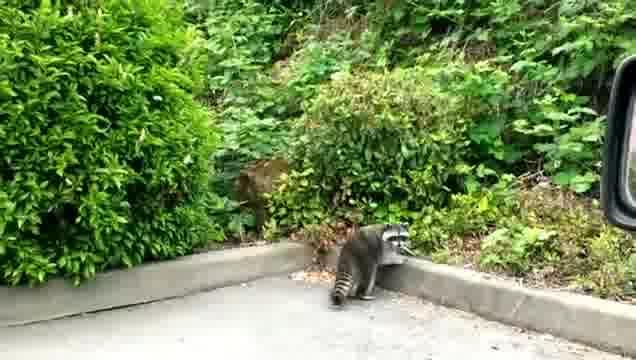raccoon: (332, 222, 410, 304)
